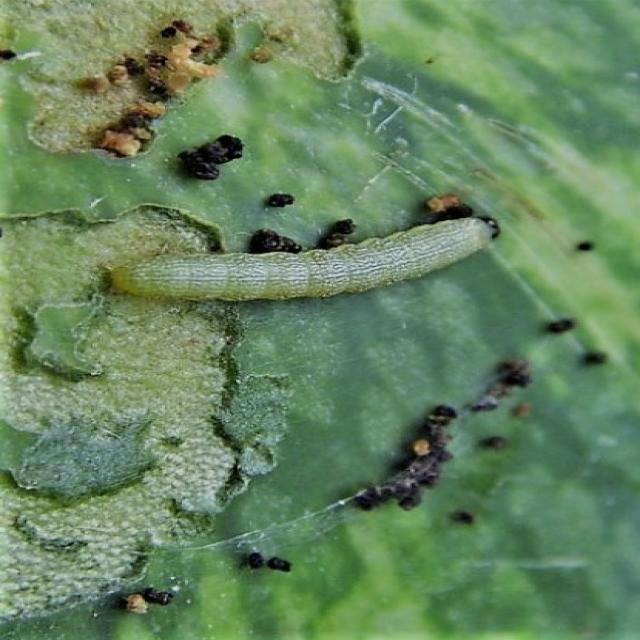armyworm: (105, 213, 500, 302)
